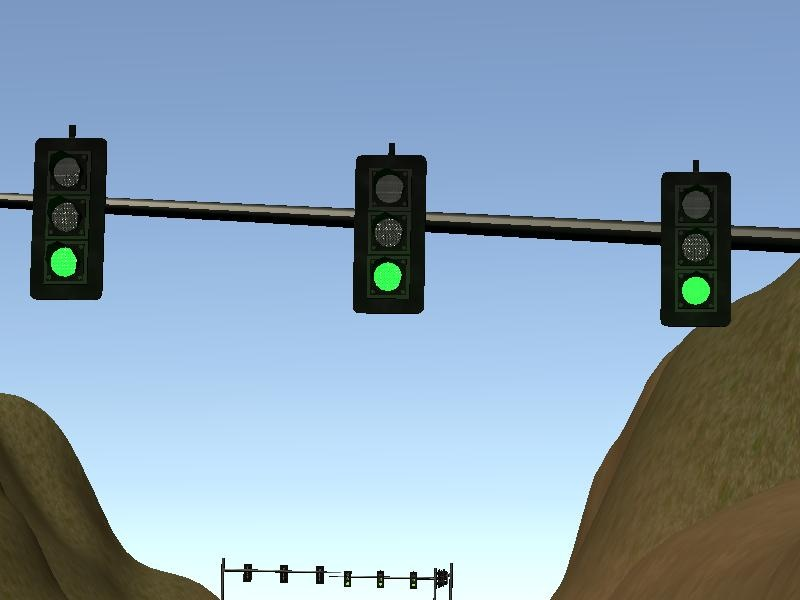GREEN: (28, 137, 107, 299), (351, 153, 424, 314), (660, 173, 730, 329)
